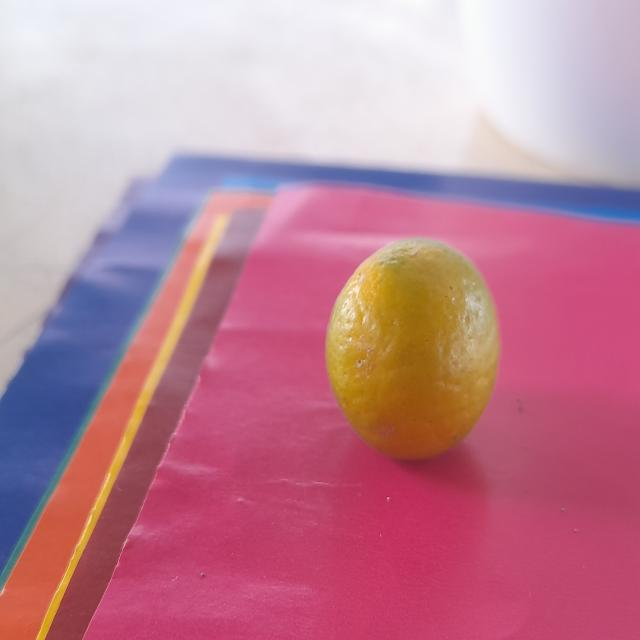greening: (326, 235, 504, 460)
